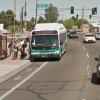Bus: (27, 18, 70, 62)
